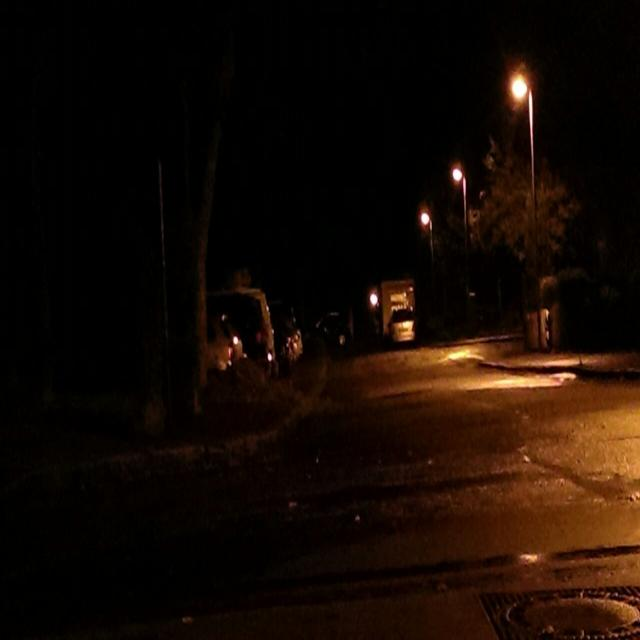Car: (164, 248, 336, 417)
